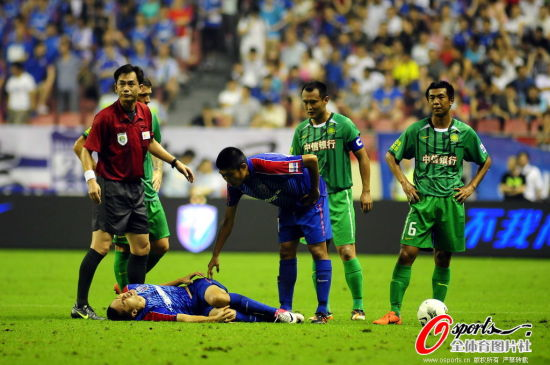10+: (1, 2, 548, 341)
down: (103, 264, 309, 340)
